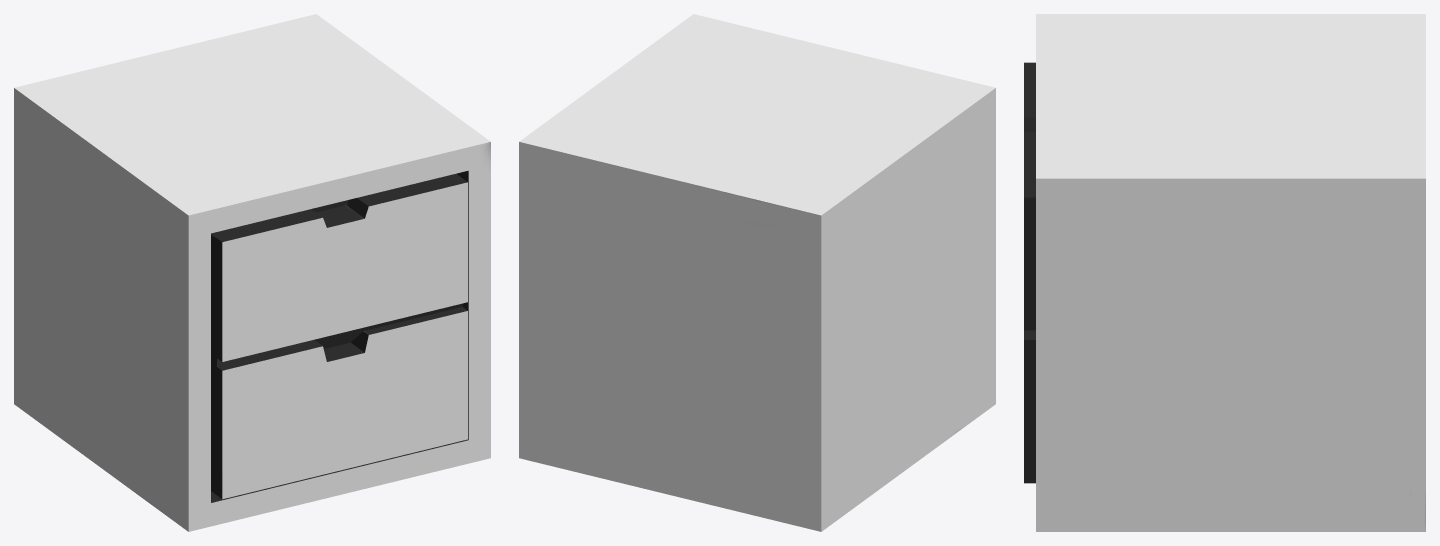
File: Cajonera_prefab.fbx
The picture shows the model from 3 angles, left to right: view 1: azimuth 30°, elevation 25°; view 2: azimuth 150°, elevation 25°; view 3: azimuth 270°, elevation 25°; orthographic projection. The views are drawn at different scales.
Visible parts, largest first — view 1: Cube; view 2: Cube; view 3: Cube.
Boxes of the visible parts, x1,y1,x2,y2 form: Cube: (14, 14, 490, 531); Cube: (519, 14, 995, 531); Cube: (1024, 14, 1425, 531).
Size of the model in its own units: 200 by 200 by 206.
Materials: 1 (1 with a texture image).
